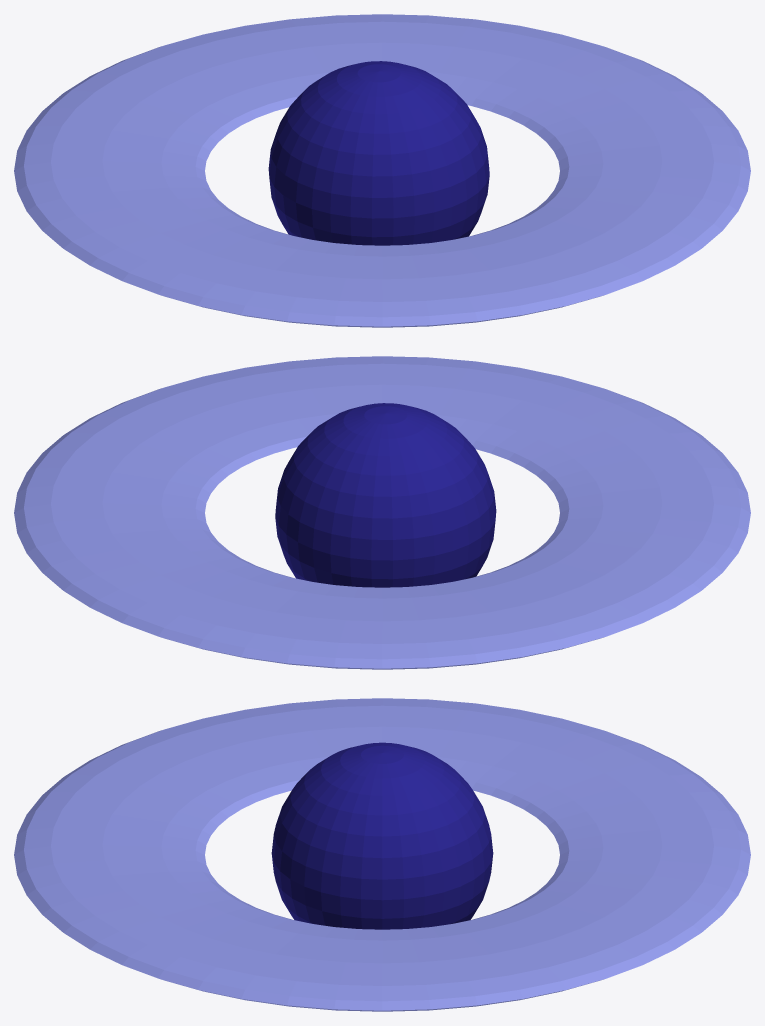
File: aspiral.fbx
The picture shows the model from 3 angles, top to bottom: view 1: azimuth 30°, elevation 25°; view 2: azimuth 150°, elevation 25°; view 3: azimuth 270°, elevation 25°; orthographic projection.
Visible parts, largest first — view 1: Torus.005, Sphere.001; view 2: Torus.005, Sphere.001; view 3: Torus.005, Sphere.001.
Part boxes in pixels (x1,y1,x2,y2): Torus.005: [14, 14, 750, 327]; Sphere.001: [268, 61, 489, 245]; Torus.005: [14, 356, 750, 669]; Sphere.001: [275, 403, 496, 587]; Torus.005: [14, 698, 750, 1011]; Sphere.001: [271, 742, 493, 929].
Size of the model in its own units: 1289 by 388 by 1289.
